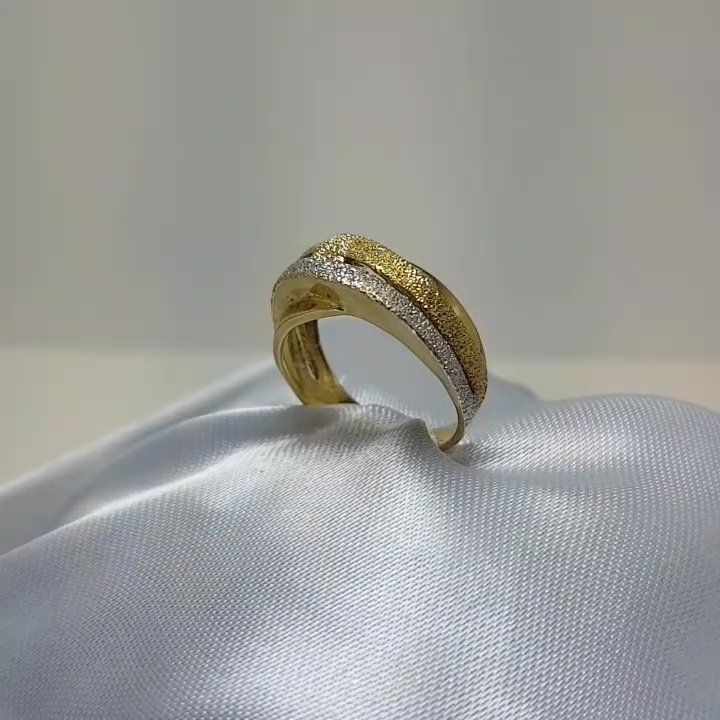Ring 5: (237, 199, 509, 477)
